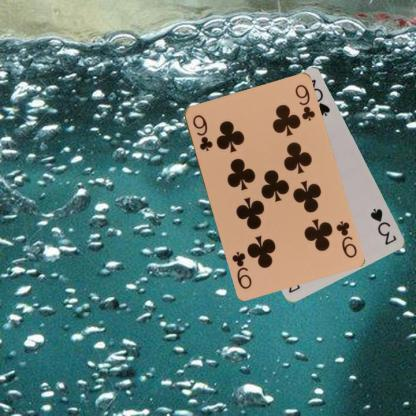3s: (368, 206, 398, 246)
9c: (333, 218, 358, 259), (189, 112, 214, 152)
